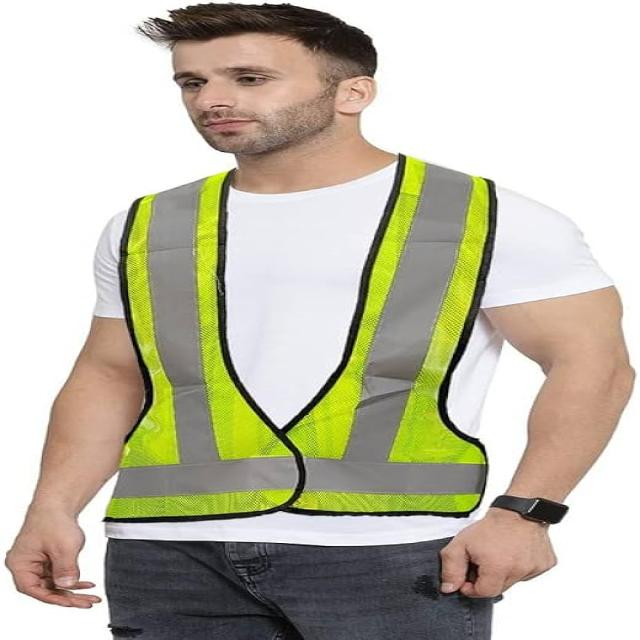safety_jacket: (85, 156, 502, 520)
